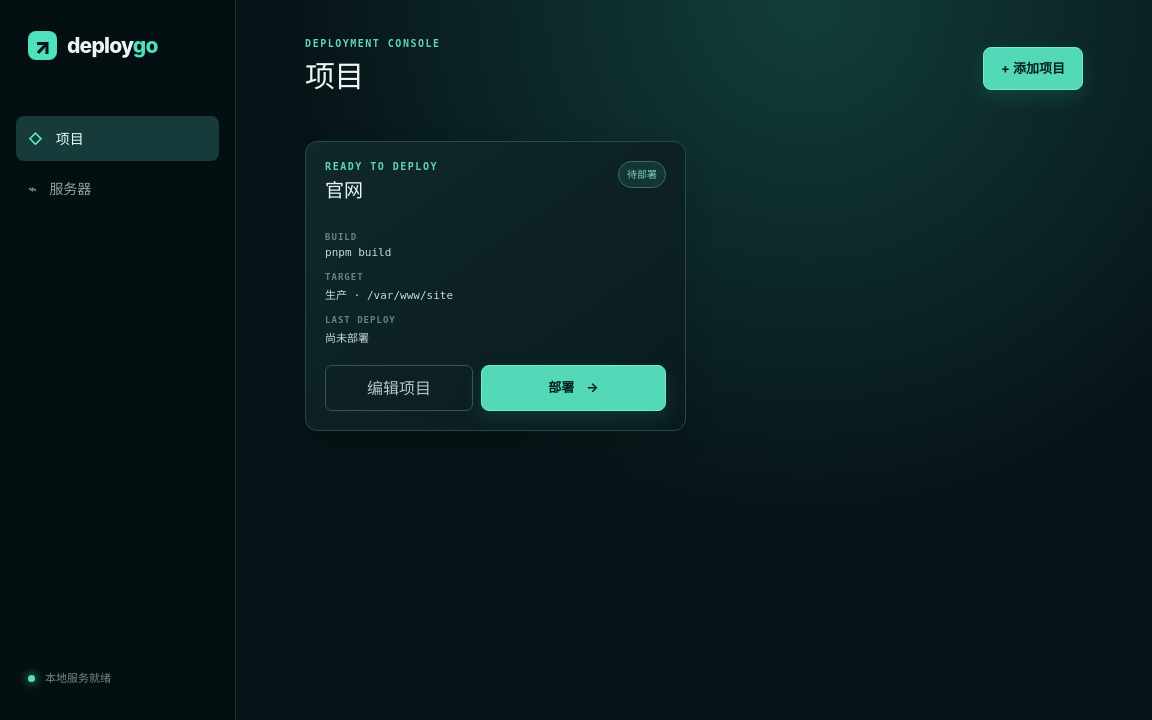
opens a saved project in edit mode
Check: the heading "官网" is shown, box [325,179,363,202]
Click the button "编辑项目": {"x": 399, "y": 388} [325,364,473,410]
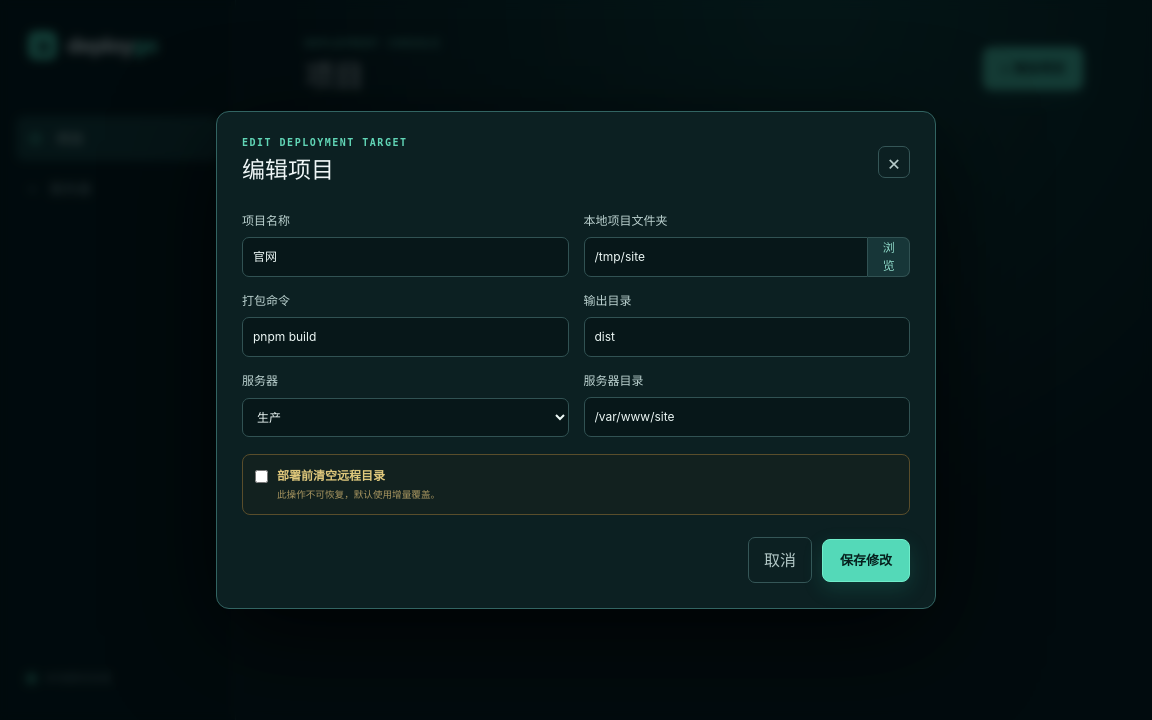
Check: the heading "编辑项目" is shown, box [242,156,334,184]
Check: the field labelled "打包命令" holds "pnpm build", box [242,317,568,357]
Check: the dropdown shows "生产", box [242,398,568,437]
